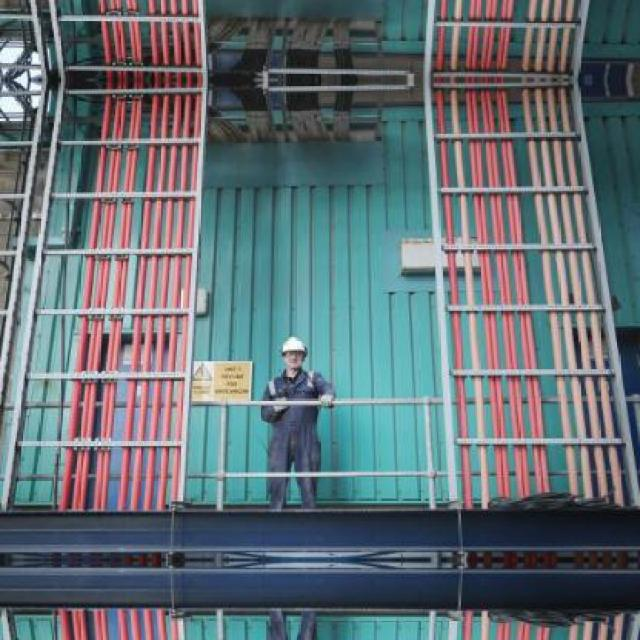helmet: (277, 333, 308, 372)
